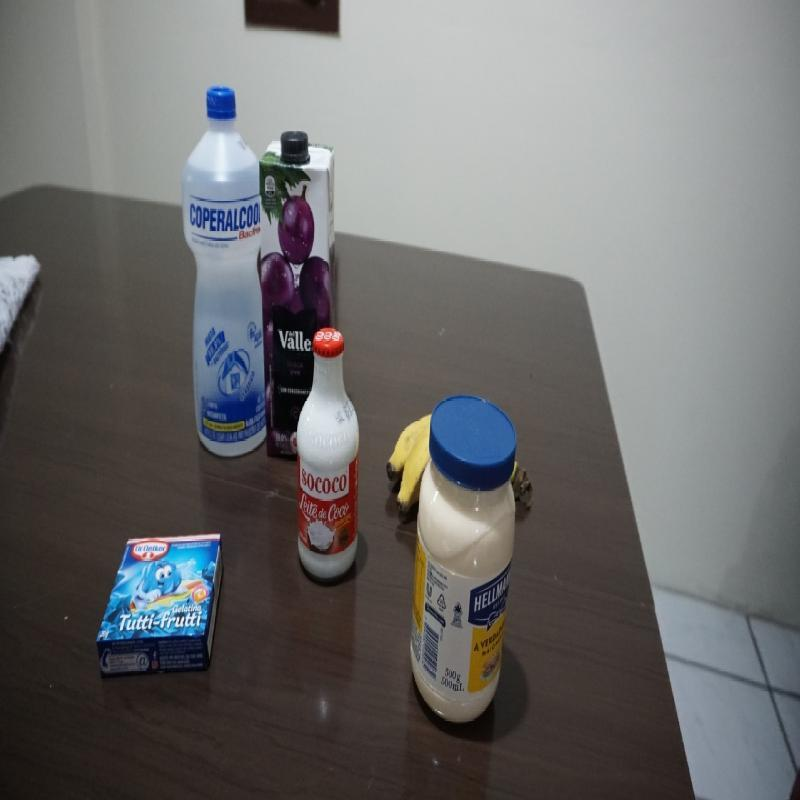Alcohol Bottle: (181, 85, 267, 456)
Banana: (385, 405, 432, 524)
Coconut Milk: (295, 326, 360, 585)
Gelatine: (97, 532, 225, 678)
Mayonnaise: (408, 394, 518, 728)
